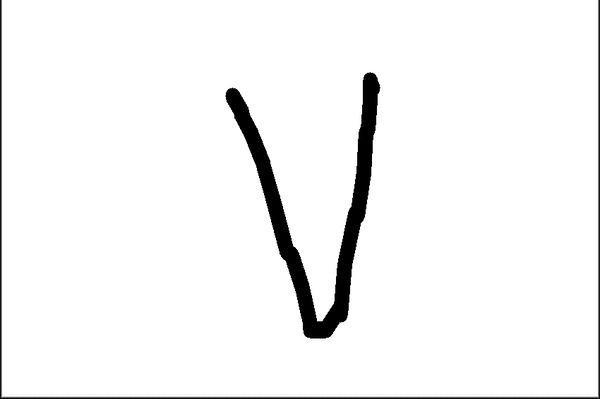V: (206, 70, 395, 370)
